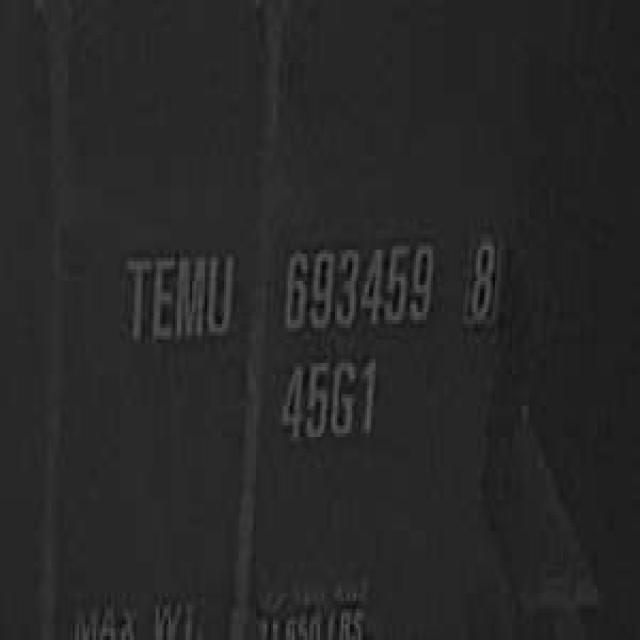dv: (461, 226, 499, 336)
owner: (117, 238, 237, 355)
serial: (278, 230, 438, 336)
size: (275, 347, 380, 453)
